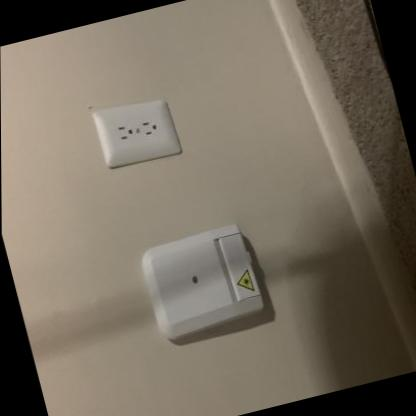OUTLET: (90, 92, 184, 172)
